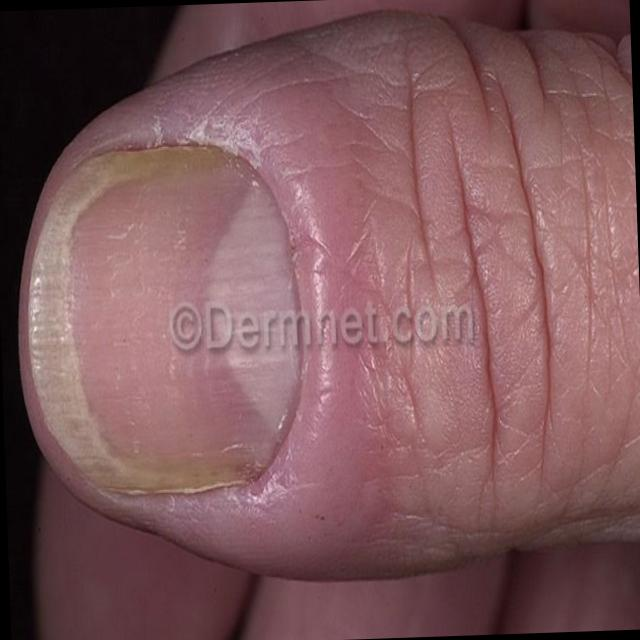Nail: (26, 137, 312, 504)
